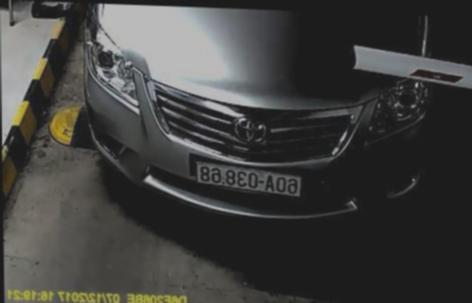License_Plate: (191, 160, 309, 197)
